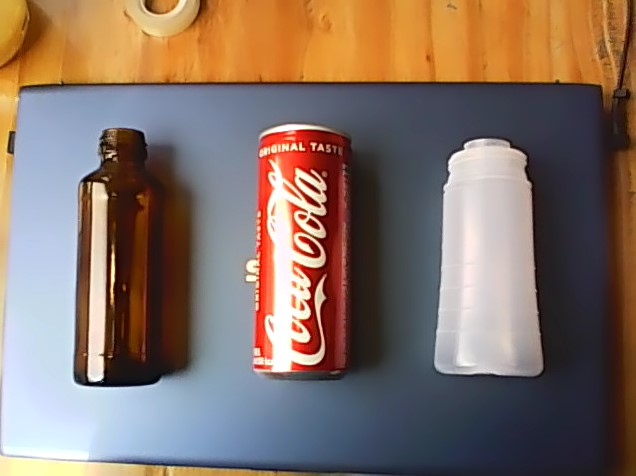Can: (246, 119, 359, 385)
Glass: (68, 123, 167, 389)
Plastic: (427, 132, 548, 382)
